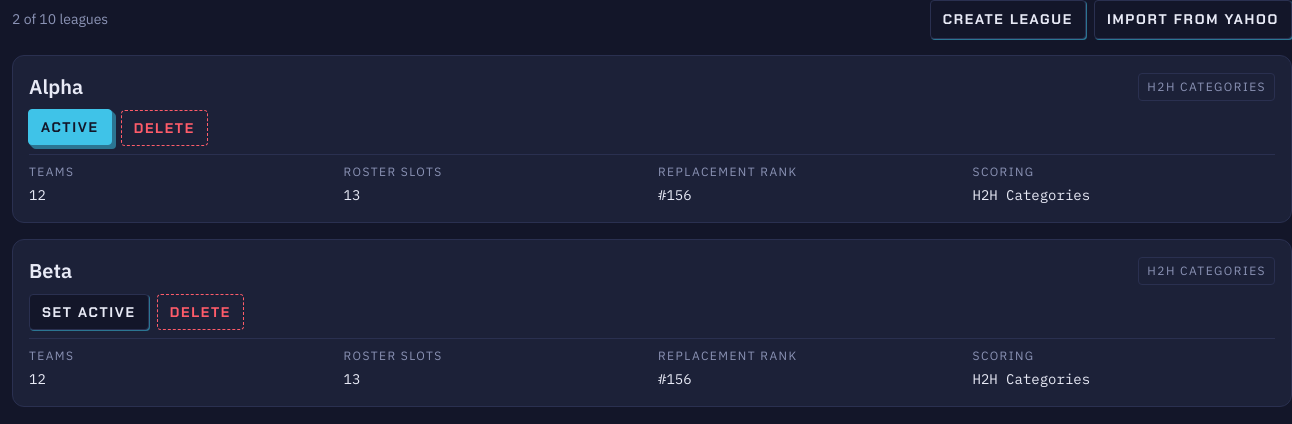
it: LeagueList › shows the new active league while the refresh is on its way
This screenshot has width=1292, height=424.
Click the button "Set active".
click(89, 312)  # box [29,294,149,330]
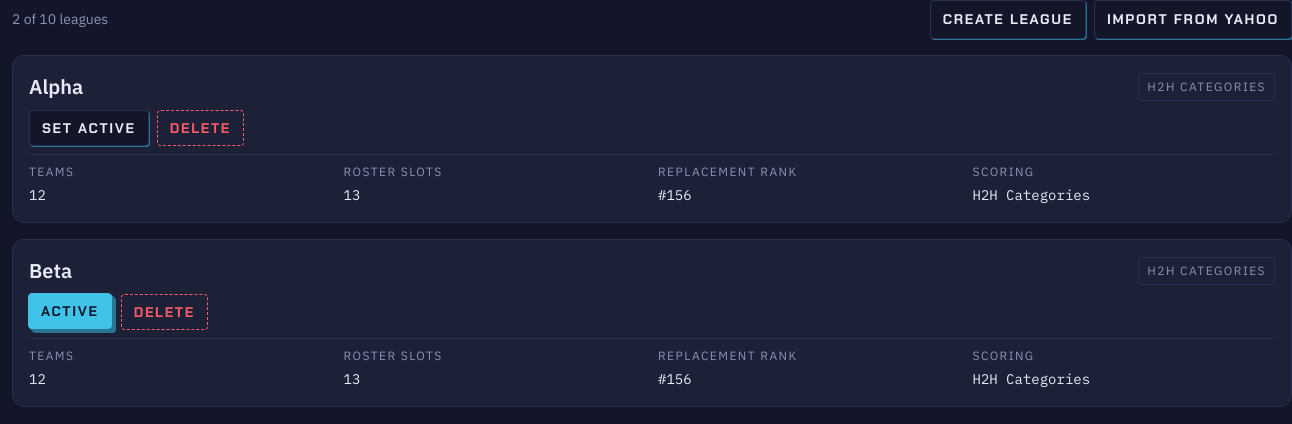
Expected: the button "Active" is shown, [28,293,112,329]
Result: the button "Set active" is shown at [29,110,149,146]
